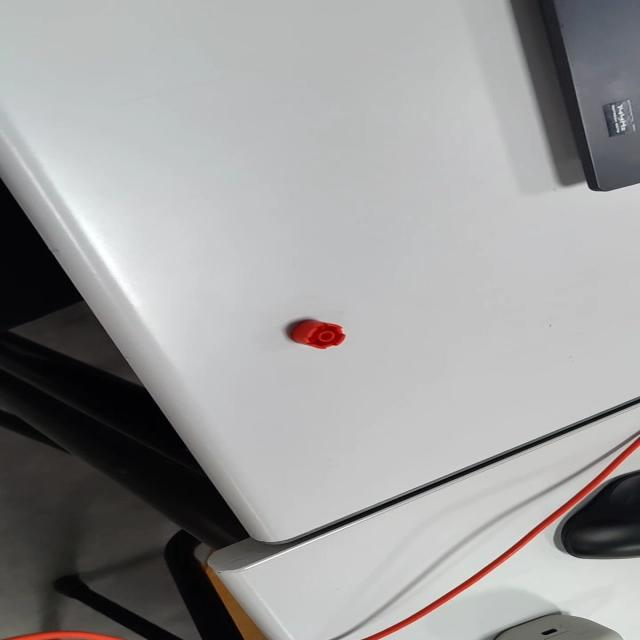S2x2x1: (283, 317, 348, 352)
